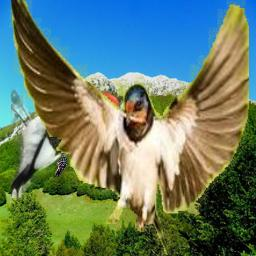Swallow: (9, 0, 249, 256)
Woodpecker: (11, 87, 120, 198), (55, 152, 67, 178)
